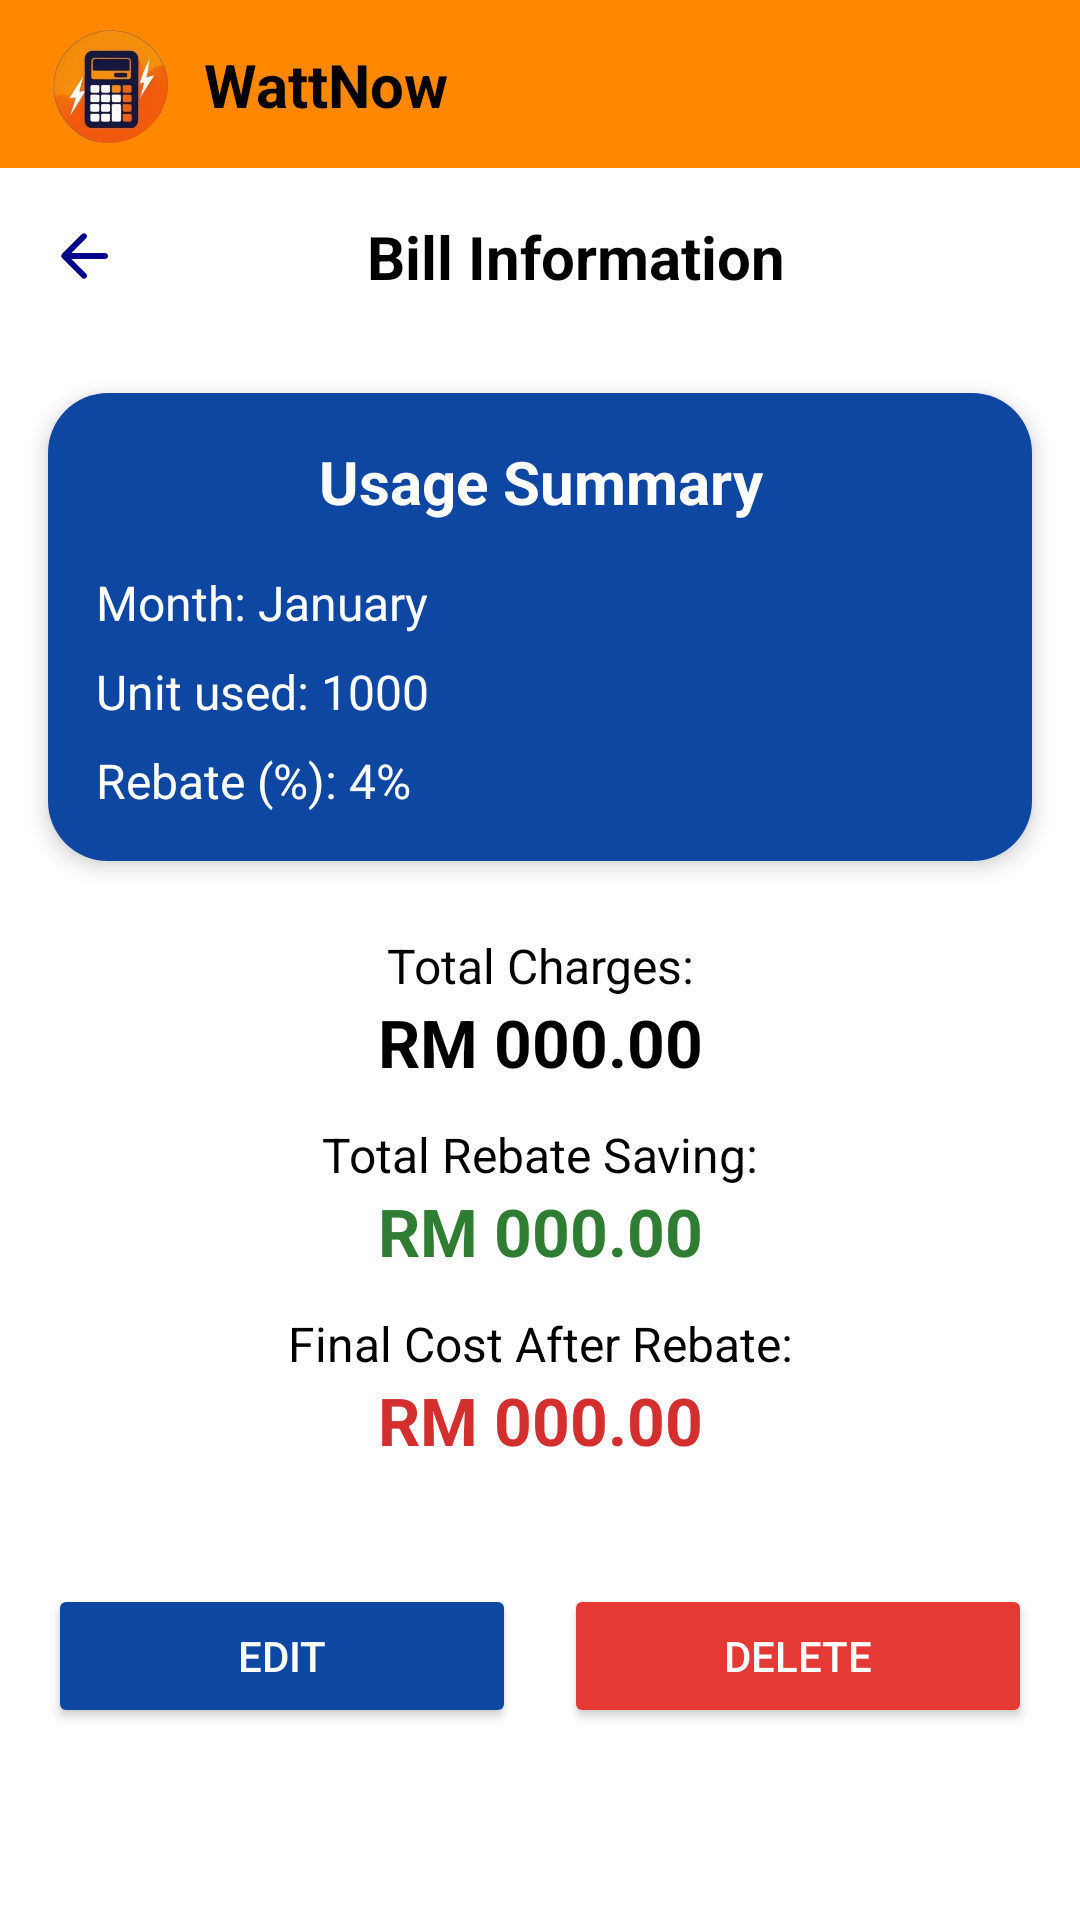

Point at icon controls on the screen. Image size 1080×1920, points as point (x, y).
Back: point (84, 256)
